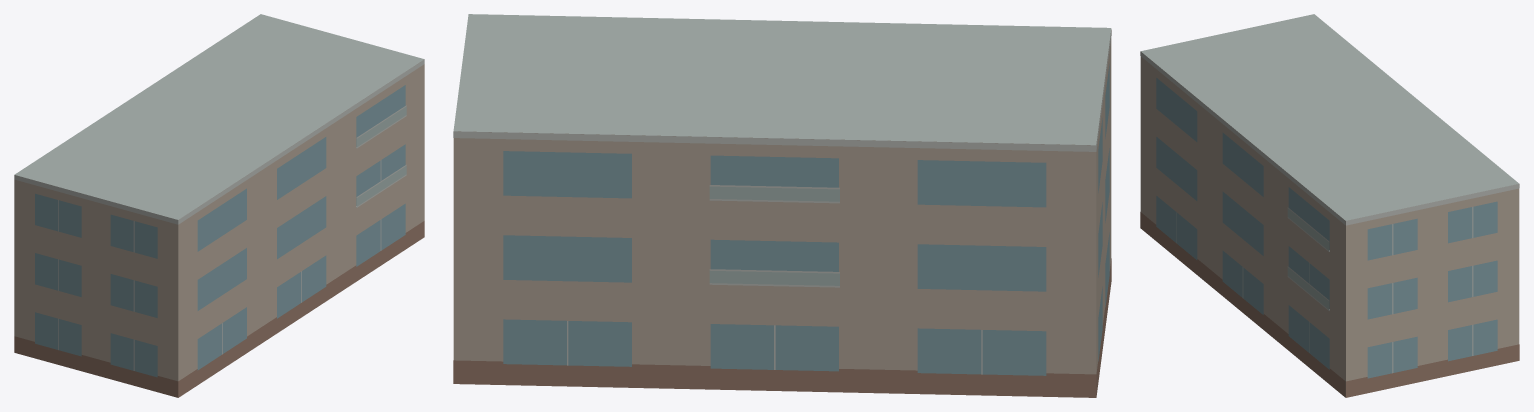
File: survey-upis-32837039.glb
The picture shows the model from 3 angles, left to right: view 1: azimuth 30°, elevation 25°; view 2: azimuth 150°, elevation 25°; view 3: azimuth 270°, elevation 25°; orthographic projection. The views are drawn at different scales.
Visible parts, largest first — view 1: survey-upis-32837039.tmp; view 2: survey-upis-32837039.tmp; view 3: survey-upis-32837039.tmp.
Boxes of the visible parts, x1,y1,x2,y2 form: survey-upis-32837039.tmp: [14, 14, 424, 397]; survey-upis-32837039.tmp: [453, 14, 1111, 397]; survey-upis-32837039.tmp: [1140, 14, 1519, 397].
Size of the model in its own units: 22.95 by 9.15 by 17.77.
